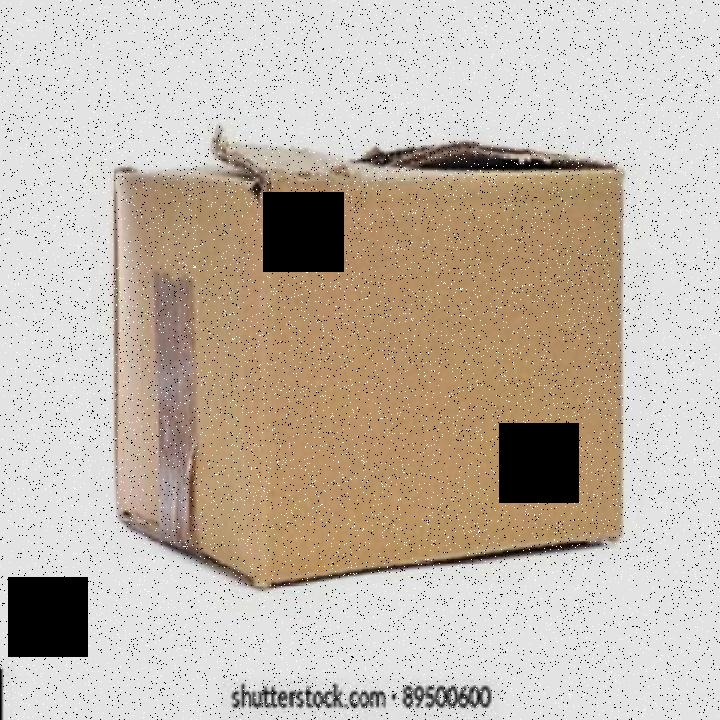box: (88, 118, 638, 592)
